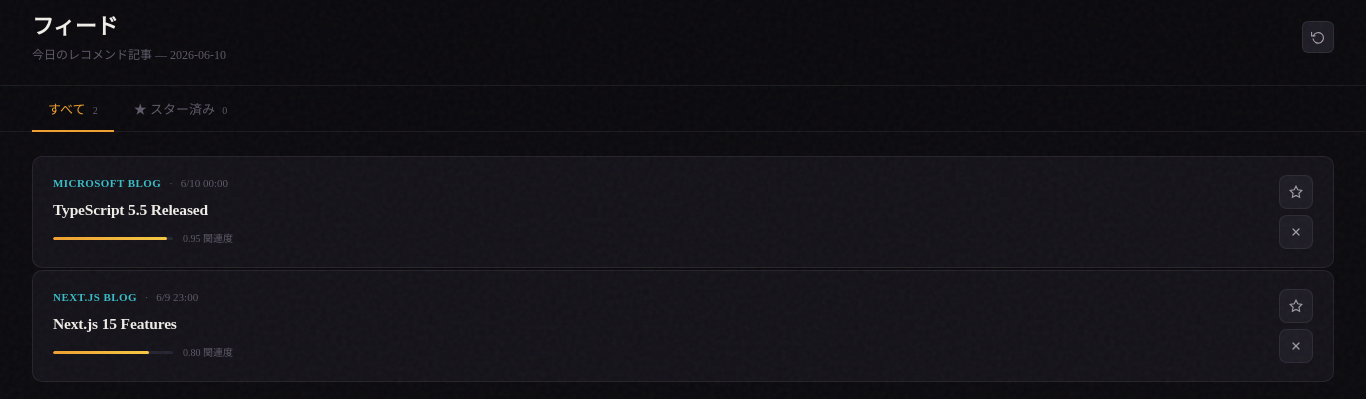
Test: FeedPage — Tabs › Given starred tab with zero starred articles, shows dedicated empty message
expect the link "TypeScript 5.5 Released" is shown: met, box [53, 201, 208, 218]
Step 1. Click the button "★ スター済み 0" → (181, 110), box [118, 87, 243, 132]
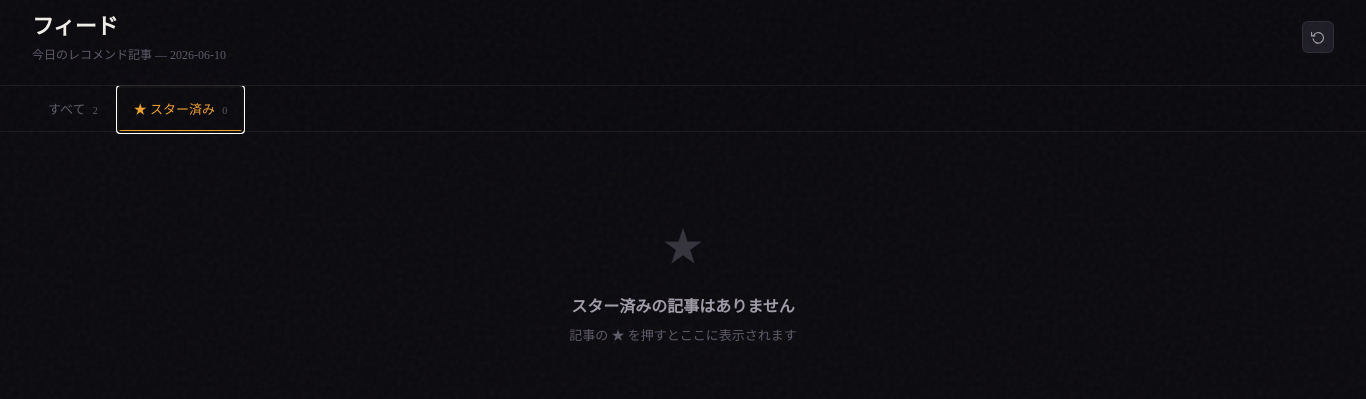
expect the text "スター済みの記事はありません" is shown: met, box [571, 298, 795, 315]
